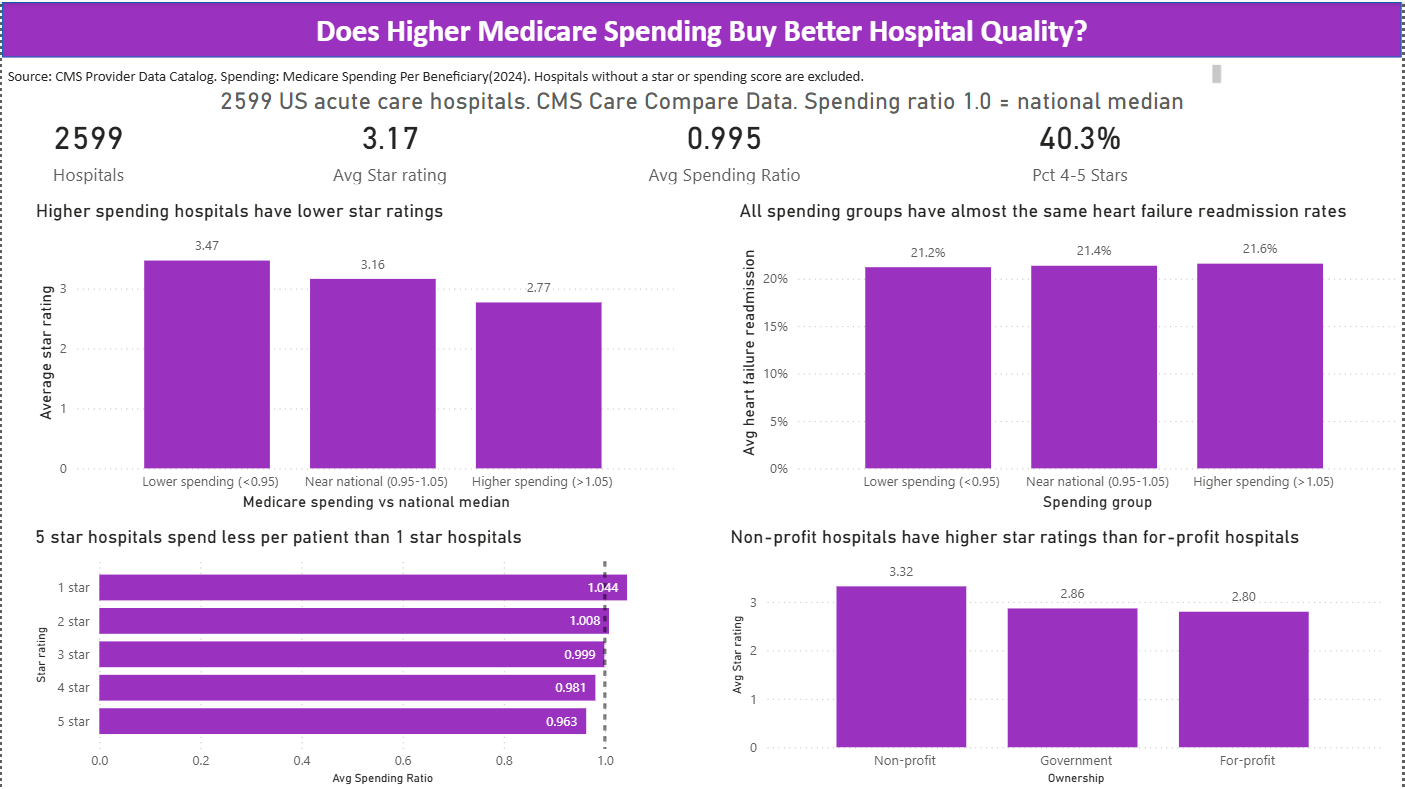

The page's visual inventory and layout, read from the dashboard file:
{"tool":"powerbi","page":{"name":"USA","canvas":[1280,720],"ordinal":0},"visuals":[{"type":"card","fields":{"Values":["Hospital_Analysis.Hospitals"]},"box":[26.1,94.7,105.7,76.9],"z":0},{"type":"card","fields":{"Values":["Hospital_Analysis.Avg Star rating"]},"box":[289.1,94.7,130.4,76.9],"z":1000},{"type":"card","fields":{"Values":["Hospital_Analysis.Avg Spending Ratio"]},"box":[578.2,94.7,166.1,76.9],"z":2000},{"type":"card","fields":{"Values":["Hospital_Analysis.Pct 4-5 Stars"]},"box":[903,94.7,166.1,76.9],"z":3000},{"type":"clusteredColumnChart","title":"Higher spending hospitals have lower star ratings","fields":{"Category":["Hospital_Analysis.spending_group"],"Y":["Hospital_Analysis.Avg Star rating"]},"box":[26.1,181.1,594.2,288.2],"z":4000},{"type":"clusteredColumnChart","title":"All spending groups have almost the same heart failure readmission rates","fields":{"Category":["Hospital_Analysis.spending_group"],"Y":["Hospital_Analysis.Avg HF Readmission"]},"box":[669.7,181.1,610.7,288.2],"z":5000},{"type":"clusteredBarChart","title":"5 star hospitals spend less per patient than 1 star hospitals","fields":{"Category":["Hospital_Analysis.Star label"],"Y":["Hospital_Analysis.Avg Spending Ratio"]},"box":[24.7,478.5,595.6,241.5],"z":6000},{"type":"clusteredColumnChart","title":"Non-profit hospitals have higher star ratings than for-profit hospitals","fields":{"Y":["Hospital_Analysis.Avg Star rating"],"Category":["Hospital_Analysis.ownership_group"]},"box":[661.5,478.9,607.9,241.5],"z":7000},{"type":"shape","box":[0,0,1280.4,50.8],"z":8000},{"type":"textbox","title":"2599 US acute care hospitals. CMS Care Compare Data. Spending ratio 1.0 = national median","box":[0,78.9,1281.1,32.2],"z":9000},{"type":"textbox","box":[0,51.5,1120.1,27.4],"z":9001}]}

Visuals, with their boxes in screenshot pixels (x1, y1, x2, y2), scaled from the page's 1280x720 canvas onto the 1405x789 screenshot:
card - Hospital_Analysis.Hospitals: (x1=29, y1=104, x2=145, y2=188)
card - Hospital_Analysis.Avg Star rating: (x1=317, y1=104, x2=460, y2=188)
card - Hospital_Analysis.Avg Spending Ratio: (x1=635, y1=104, x2=817, y2=188)
card - Hospital_Analysis.Pct 4-5 Stars: (x1=991, y1=104, x2=1174, y2=188)
"Higher spending hospitals have lower star ratings" clusteredColumnChart: (x1=29, y1=198, x2=681, y2=514)
"All spending groups have almost the same heart failure readmission rates" clusteredColumnChart: (x1=735, y1=198, x2=1404, y2=514)
"5 star hospitals spend less per patient than 1 star hospitals" clusteredBarChart: (x1=27, y1=524, x2=681, y2=788)
"Non-profit hospitals have higher star ratings than for-profit hospitals" clusteredColumnChart: (x1=726, y1=525, x2=1393, y2=788)
shape: (x1=0, y1=0, x2=1404, y2=56)
"2599 US acute care hospitals. CMS Care Compare Data. Spending ratio 1.0 = national median" textbox: (x1=0, y1=86, x2=1404, y2=122)
textbox: (x1=0, y1=56, x2=1229, y2=86)
